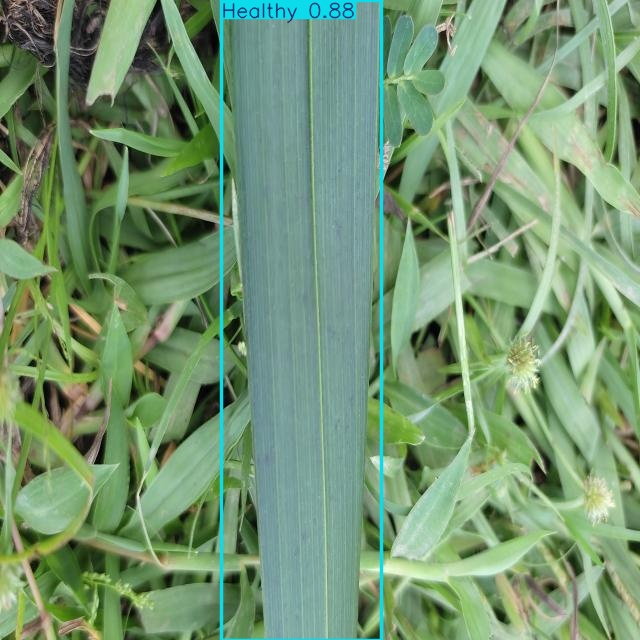Healthy: (221, 0, 382, 640)
